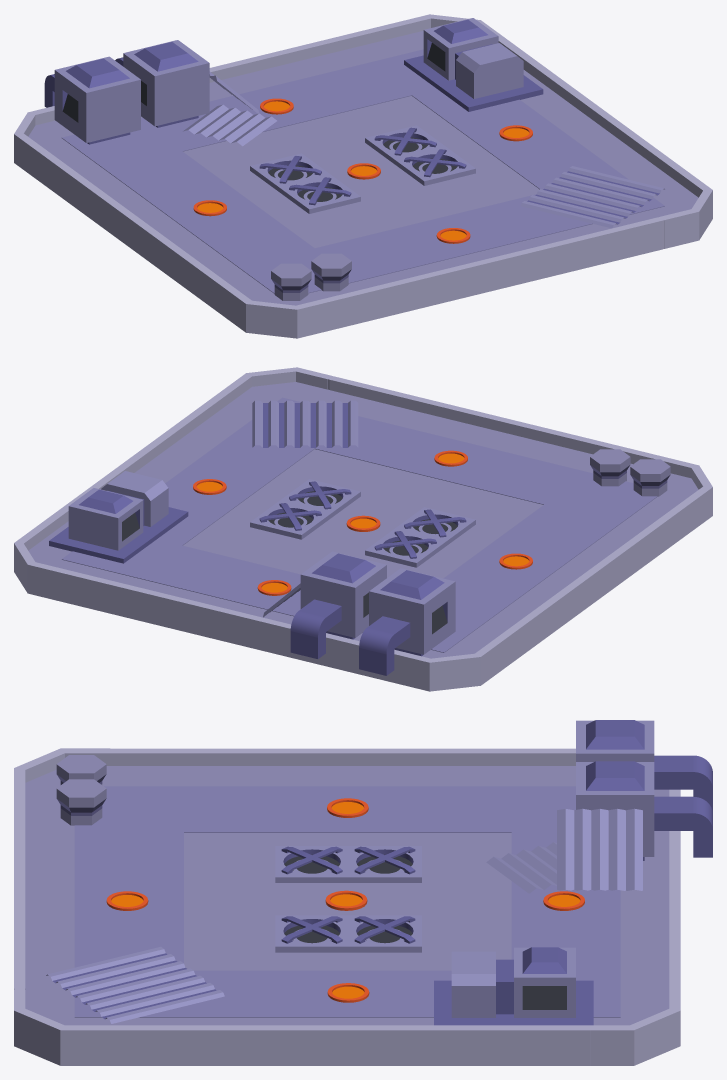
File: roof.fbx
The picture shows the model from 3 angles, top to bottom: view 1: azimuth 30°, elevation 25°; view 2: azimuth 150°, elevation 25°; view 3: azimuth 270°, elevation 25°; orthographic projection. The views are drawn at different scales.
Parts seen in each view (by area): view 1: roof_flat, block_tube, roof_flatSide (×4), detail_ventSmall (×2), roof_flatSideEdge (×4), detail_ventMedium, detail_ventLarge (×4), sheet_block, hexagon_overhang (×2), sheet_wide; view 2: roof_flat, block_tube, roof_flatSide (×4), detail_ventSmall (×2), roof_flatSideEdge (×4), detail_ventMedium, detail_ventLarge (×4), sheet_block, hexagon_overhang (×2); view 3: roof_flat, block_tube, roof_flatSide (×4), detail_ventSmall (×2), detail_ventMedium, detail_ventLarge (×4), sheet_wide (×2), roof_flatSideEdge (×3), sheet_block, window_round (×5), hexagon_overhang (×2).
Boxes of the visible parts, x1,y1,x2,y2 form: roof_flat: [28, 30, 698, 305]; block_tube: [62, 49, 664, 293]; roof_flatSide (×4): [30, 17, 705, 329]; detail_ventSmall (×2): [44, 40, 209, 144]; roof_flatSideEdge (×4): [14, 14, 712, 338]; detail_ventMedium: [404, 18, 543, 111]; detail_ventLarge (×4): [250, 125, 475, 213]; sheet_block: [521, 166, 664, 228]; hexagon_overhang (×2): [271, 253, 351, 300]; sheet_wide: [183, 104, 276, 146]; roof_flat: [28, 382, 698, 658]; block_tube: [61, 397, 657, 652]; roof_flatSide (×4): [23, 373, 706, 683]; detail_ventSmall (×2): [290, 551, 455, 675]; roof_flatSideEdge (×4): [14, 367, 712, 691]; detail_ventMedium: [49, 471, 188, 563]; detail_ventLarge (×4): [250, 479, 475, 567]; sheet_block: [252, 400, 358, 447]; hexagon_overhang (×2): [590, 449, 670, 496]; roof_flat: [25, 766, 669, 1025]; block_tube: [74, 786, 620, 1017]; roof_flatSide (×4): [14, 748, 680, 1065]; detail_ventSmall (×2): [576, 720, 712, 860]; detail_ventMedium: [434, 947, 593, 1025]; detail_ventLarge (×4): [275, 846, 421, 952]; sheet_wide (×2): [486, 808, 642, 893]; roof_flatSideEdge (×3): [14, 748, 680, 1065]; sheet_block: [46, 946, 224, 1023]; window_round (×5): [106, 798, 584, 1002]; hexagon_overhang (×2): [56, 755, 106, 825].
Bounding box in the file's own units: 127 × 21.42 × 133.
